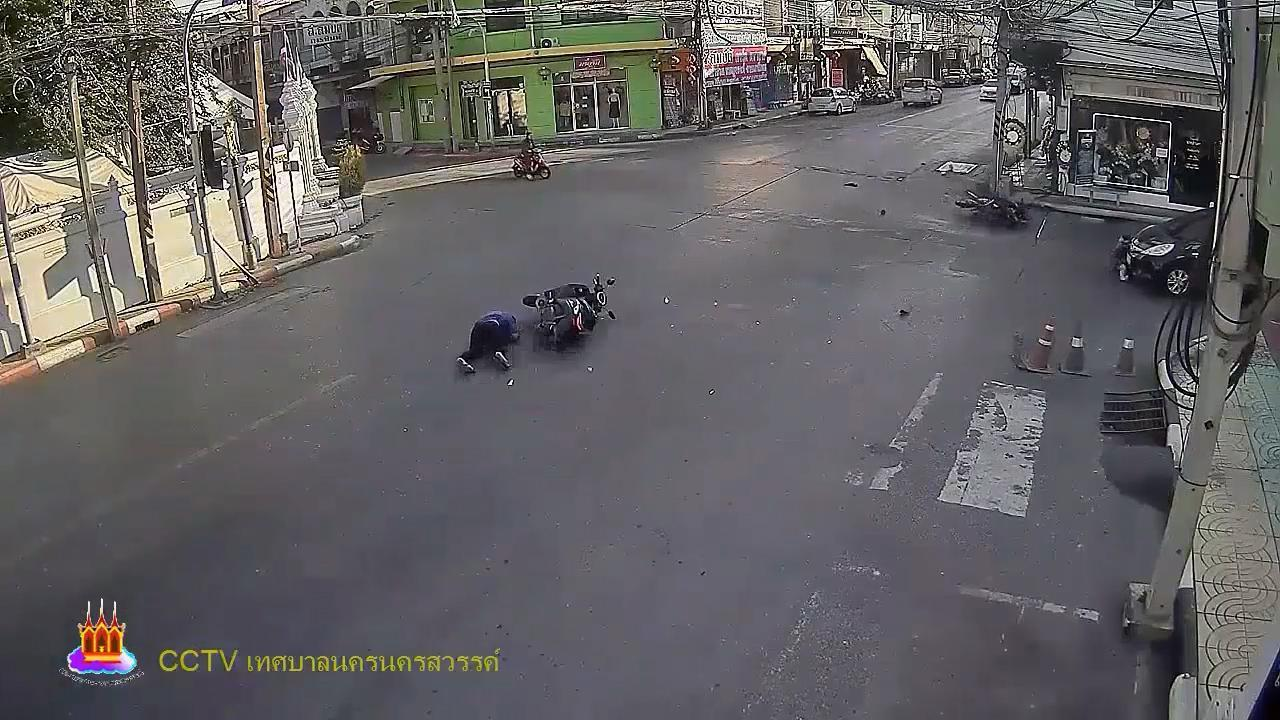accident: (450, 307, 522, 382)
